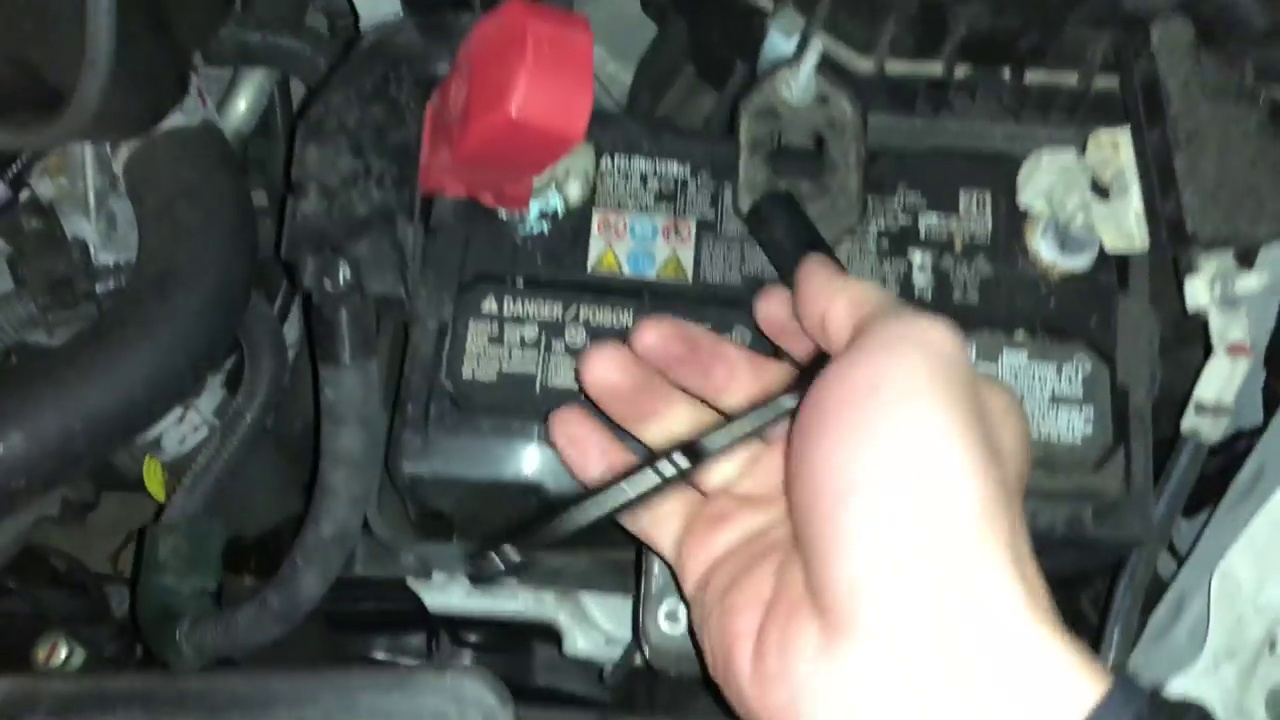battery: (401, 73, 1164, 546)
neg_connected: (988, 95, 1153, 298)
pos_connected: (387, 28, 653, 234)
